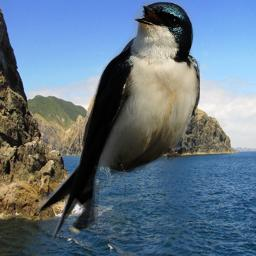Swallow: (38, 1, 200, 243)
